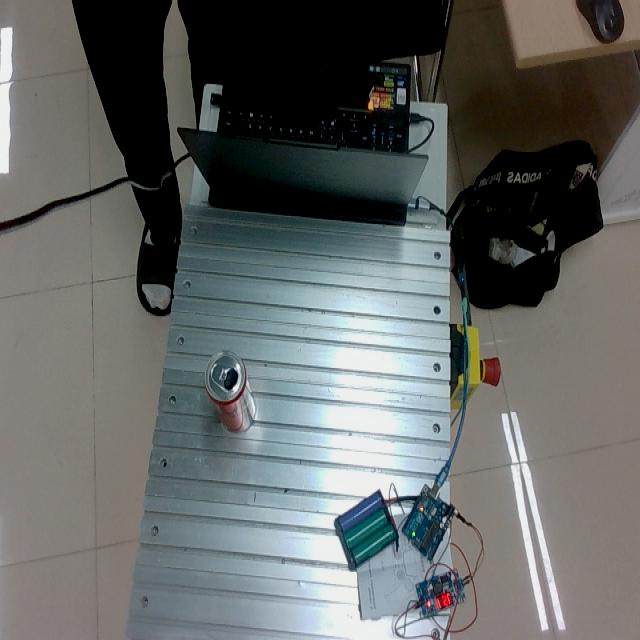coca: (205, 349, 257, 432)
